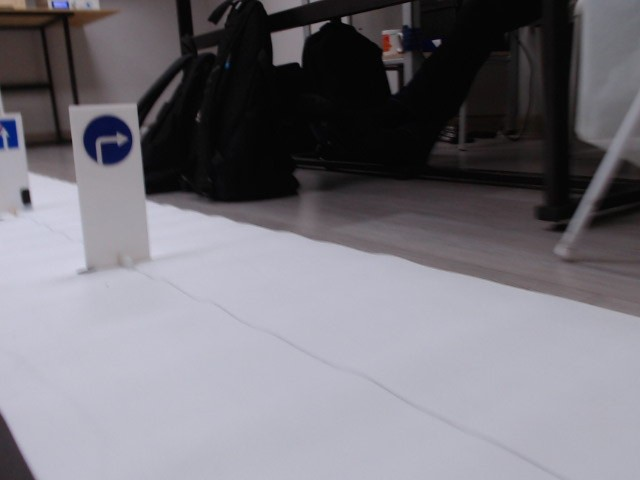Right: (81, 114, 135, 169)
